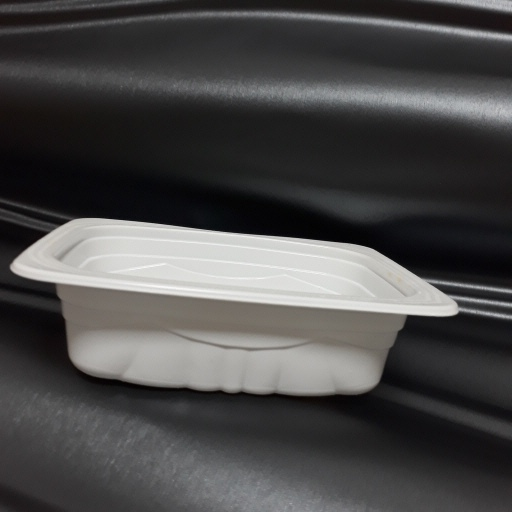Plastic_4: (9, 213, 459, 400)
